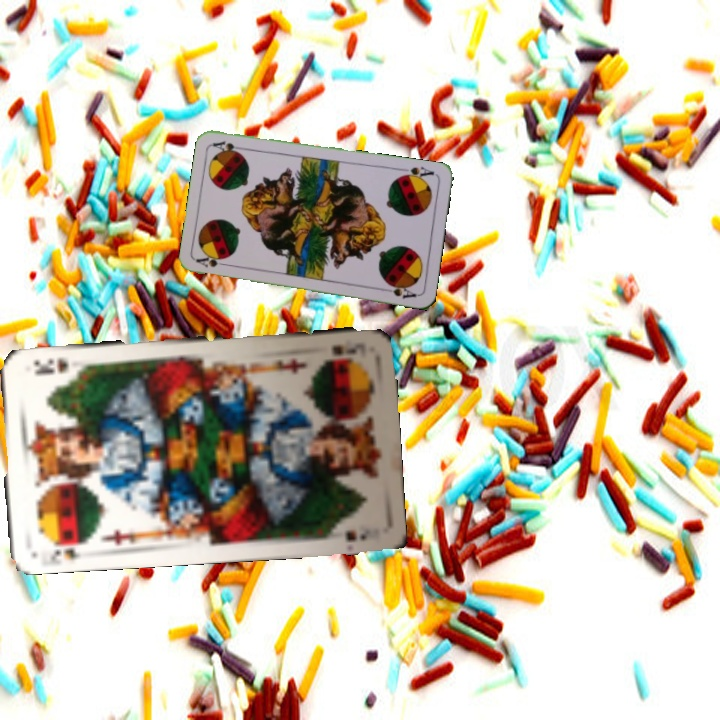SA: (396, 162, 437, 183), (193, 253, 233, 270)
SK: (45, 536, 90, 565), (328, 341, 366, 359)
